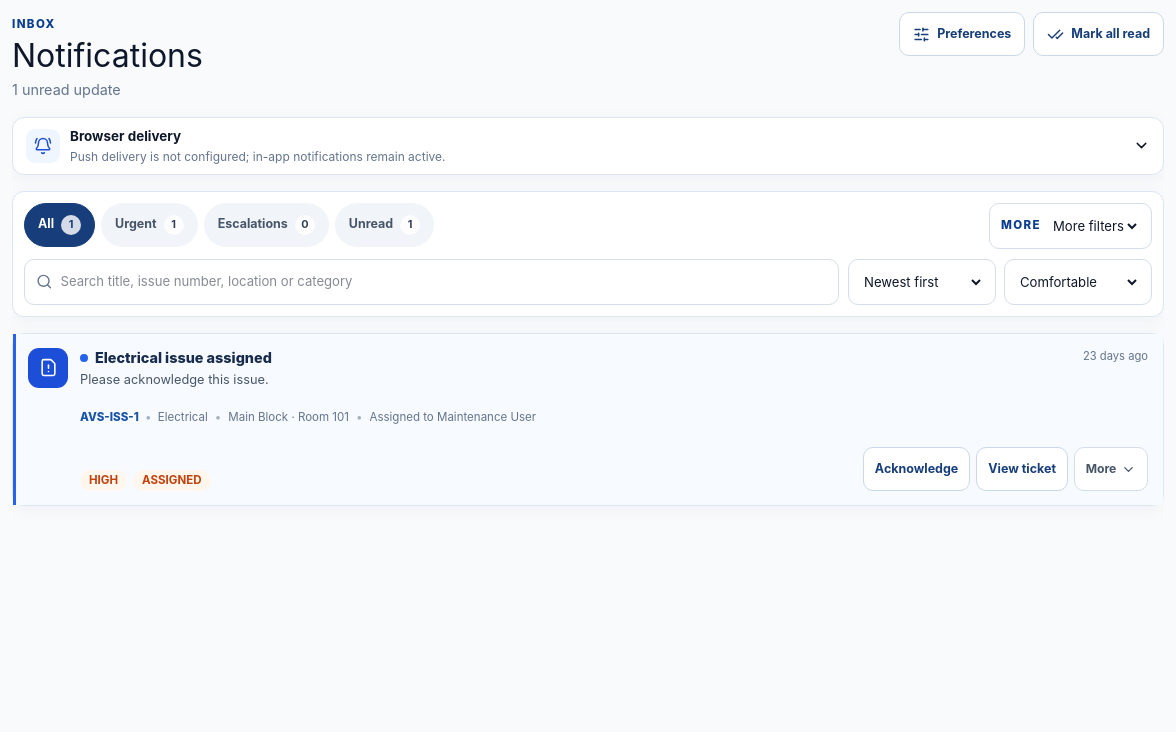
Test case: NotificationsPage › acknowledges inline, marks read and refreshes the shared counters
Click the button "Acknowledge" at (917, 469), box x1=863 y1=447 x2=970 y2=491
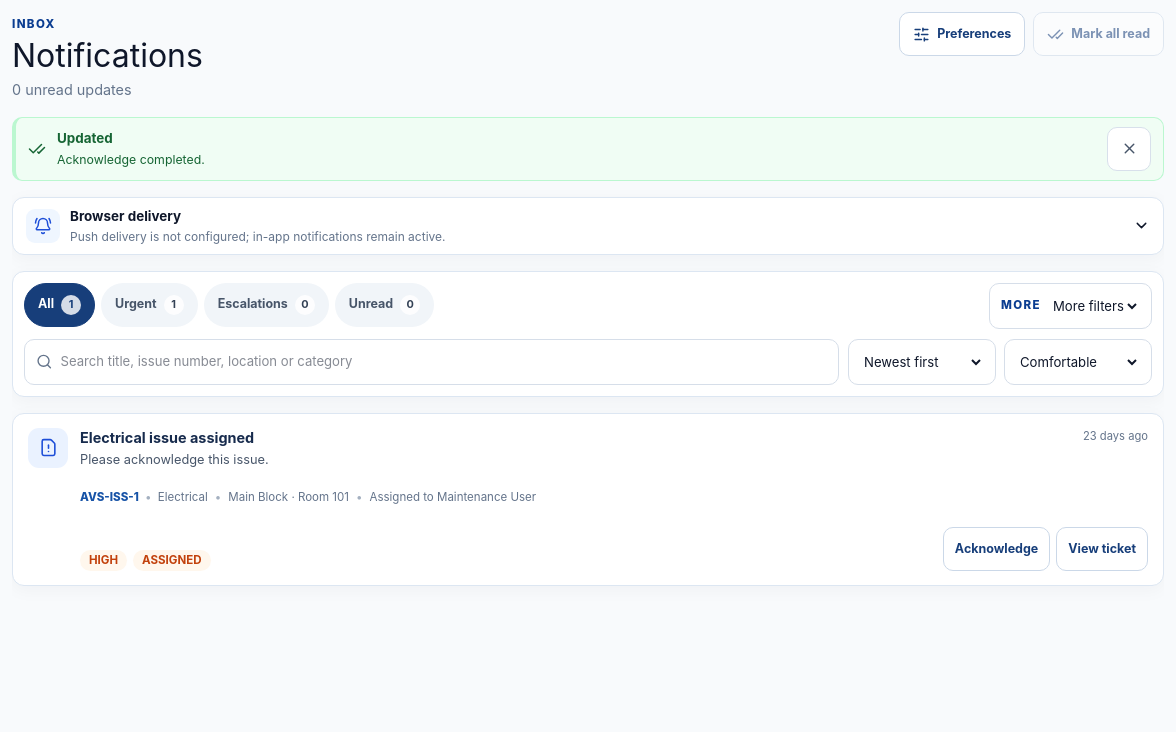
Check: the text "0 unread updates" is shown, box x1=12 y1=81 x2=132 y2=98
